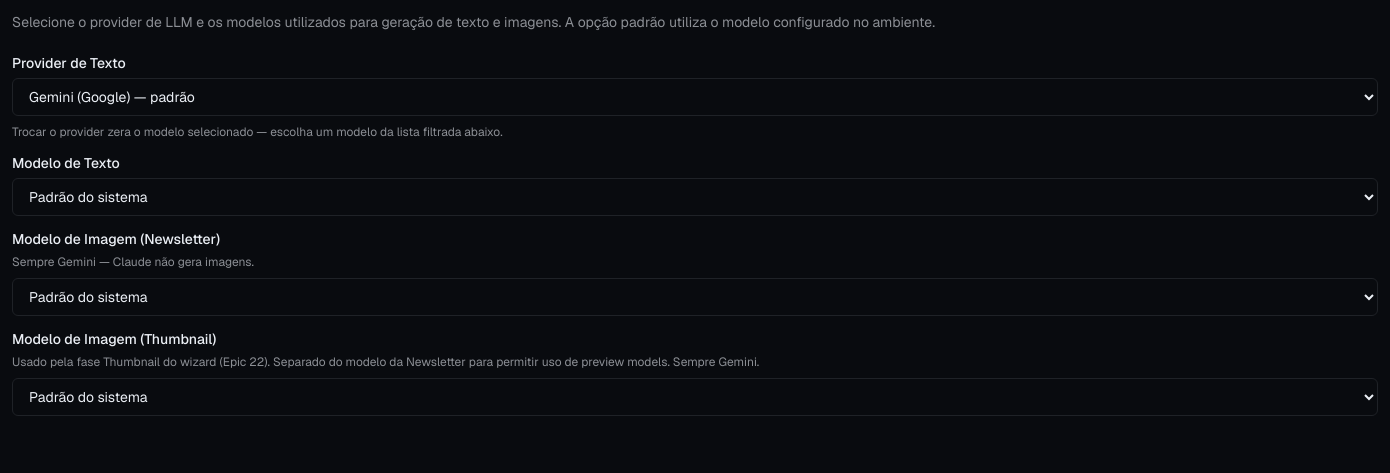
Test: LlmConfigSettingsForm › shows error and reverts on API failure
Select "Gemini 2.5 Pro — Maior qualidade da família 2.x. $1,25/$10 por 1M tokens." in the dropdown labelled "Modelo de Texto": (695, 197) x1=12 y1=178 x2=1378 y2=216
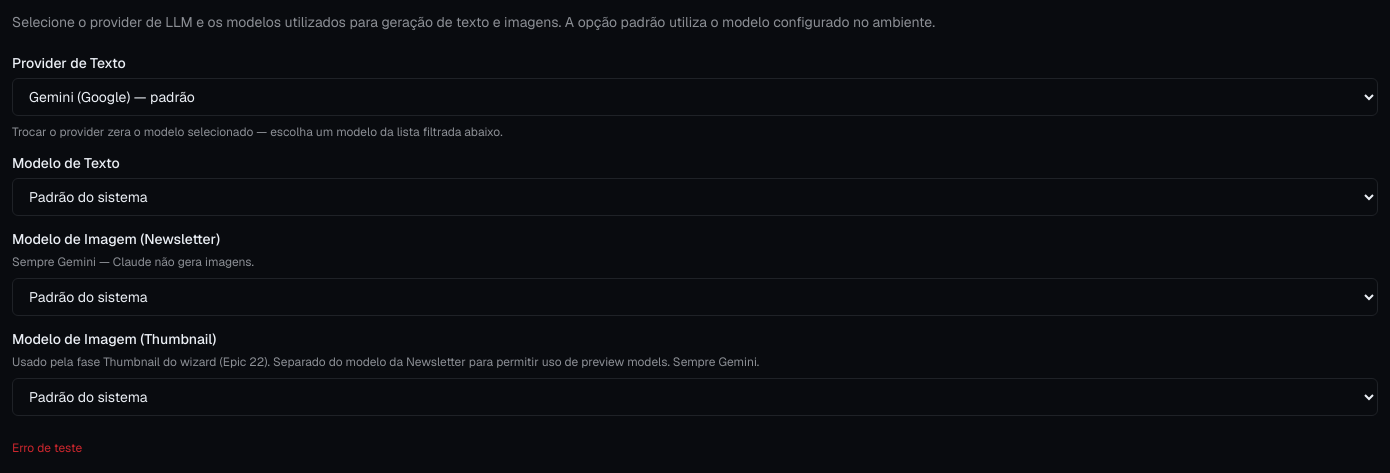
Check: the text "Erro de teste" is shown, box x1=12 y1=440 x2=82 y2=456
